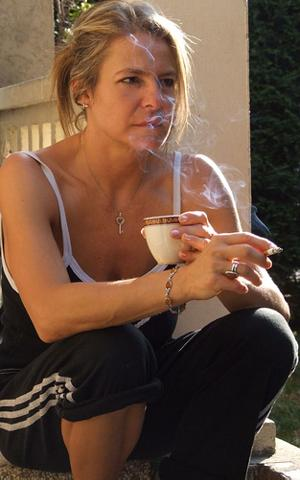person: (1, 4, 298, 477)
